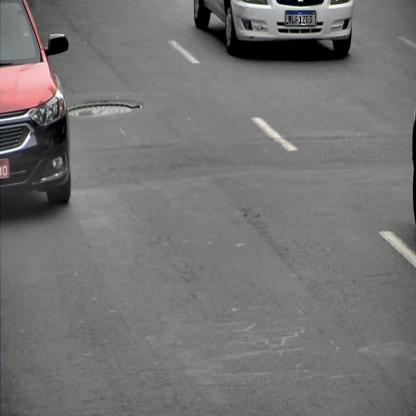PlacaM: (286, 10, 316, 26)
